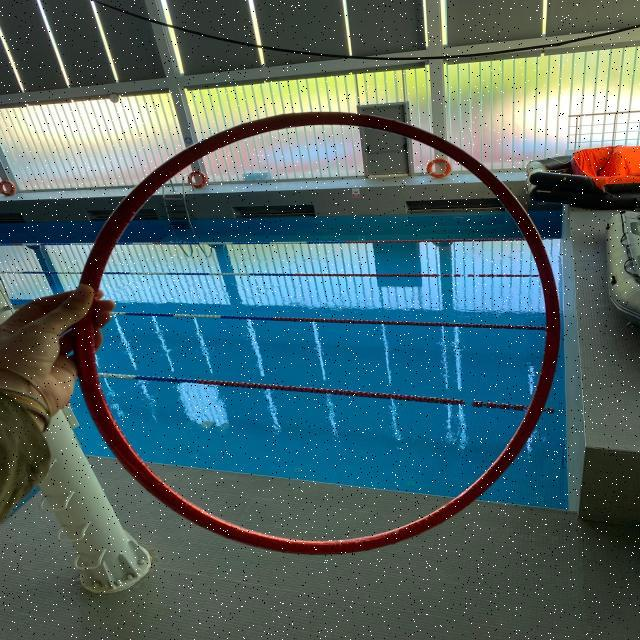Circle: (72, 107, 566, 557)
